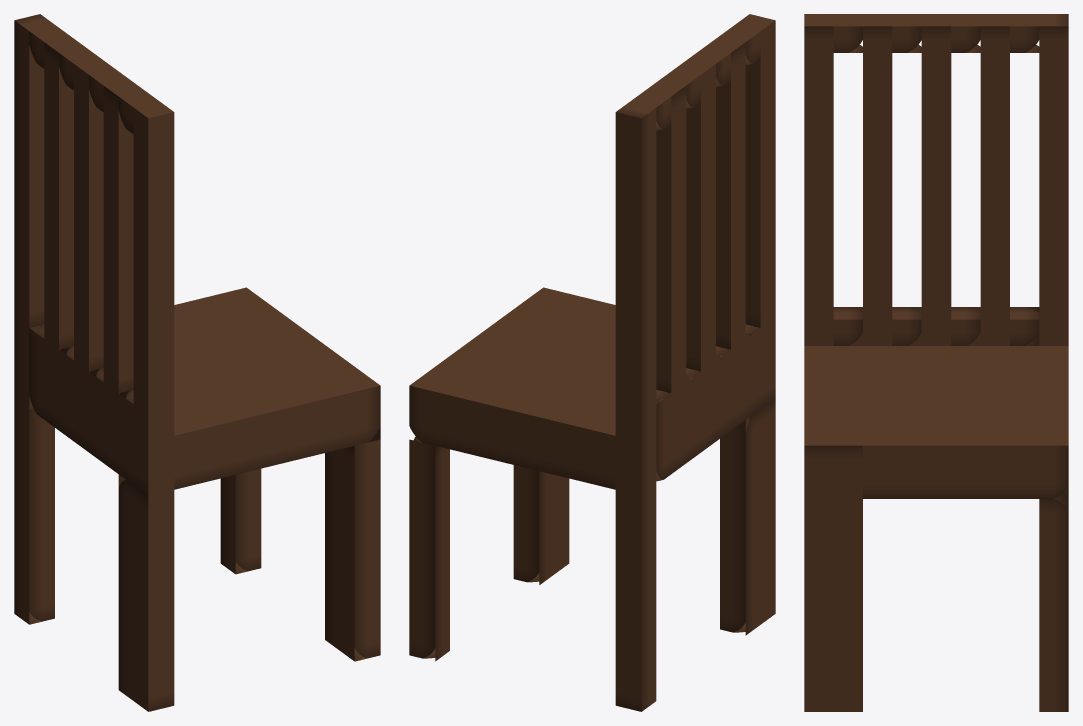
File: Cnek.dae
The picture shows the model from 3 angles, left to right: view 1: azimuth 30°, elevation 25°; view 2: azimuth 150°, elevation 25°; view 3: azimuth 270°, elevation 25°; orthographic projection.
Visible parts, largest first — view 1: Cnek; view 2: Cnek; view 3: Cnek.
Part boxes in pixels (<box>): Cnek: <box>14,14,380,711</box>; Cnek: <box>409,14,775,711</box>; Cnek: <box>804,14,1068,711</box>.
Bounding box in the file's own units: 9 × 22 × 9.
1 material, 1 textured.
